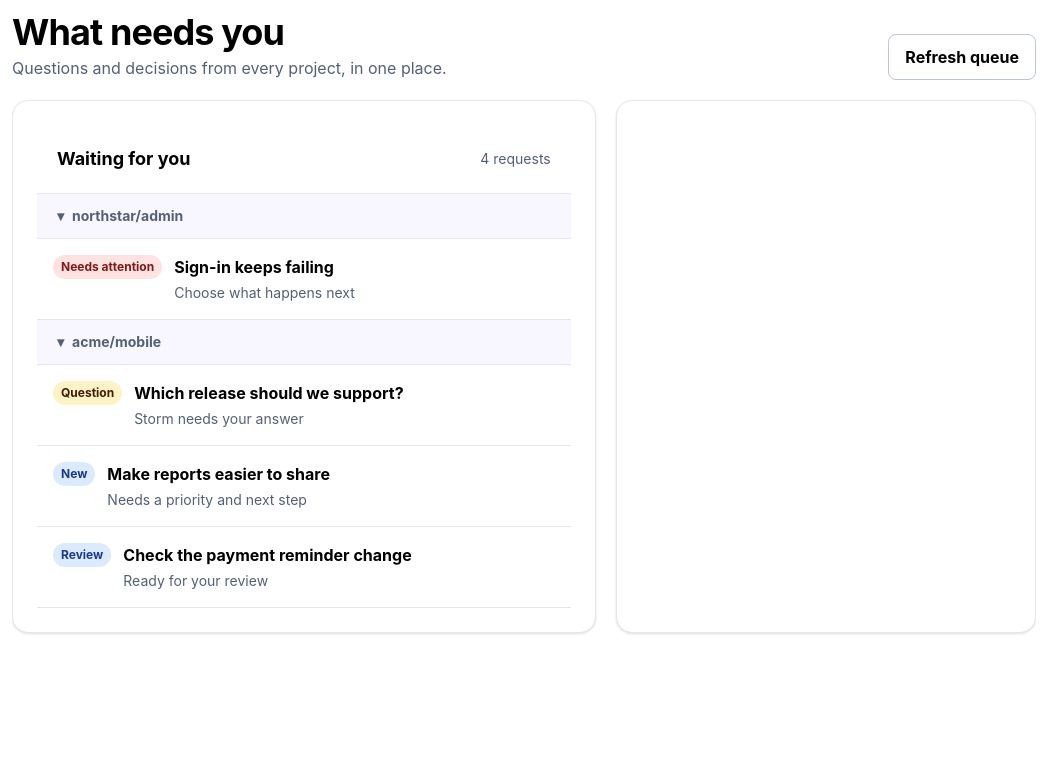
Test: keeps a failed answer in place with its error
Click the button "Which release".
click(304, 406)  # box [37, 365, 571, 446]
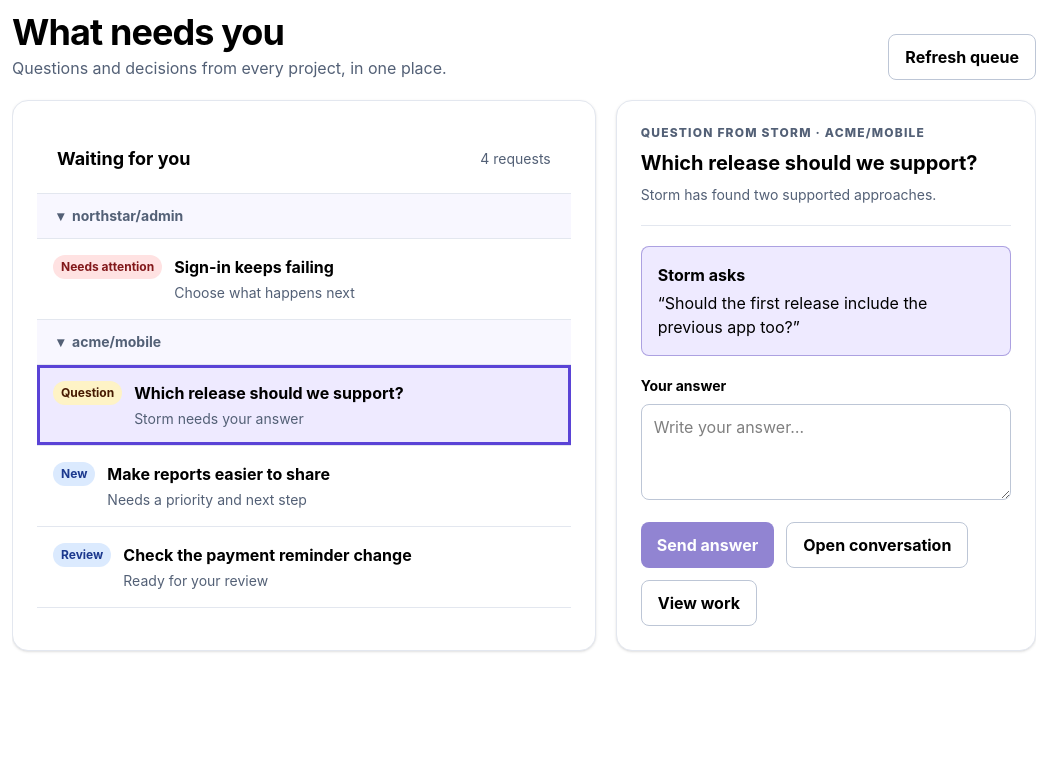
Type "Current only." into the text box labelled "Your answer".
click(826, 452); type("Current only.")  # box [641, 404, 1011, 500]
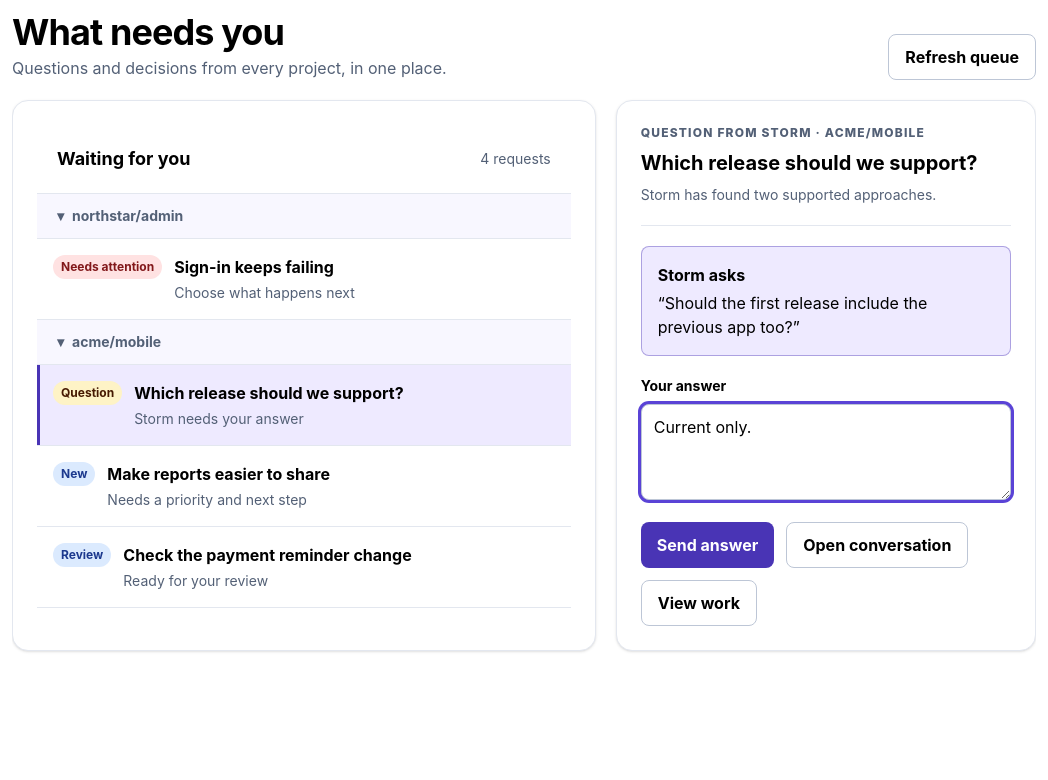
Click the button "Send answer".
click(707, 545)  # box [641, 522, 774, 568]
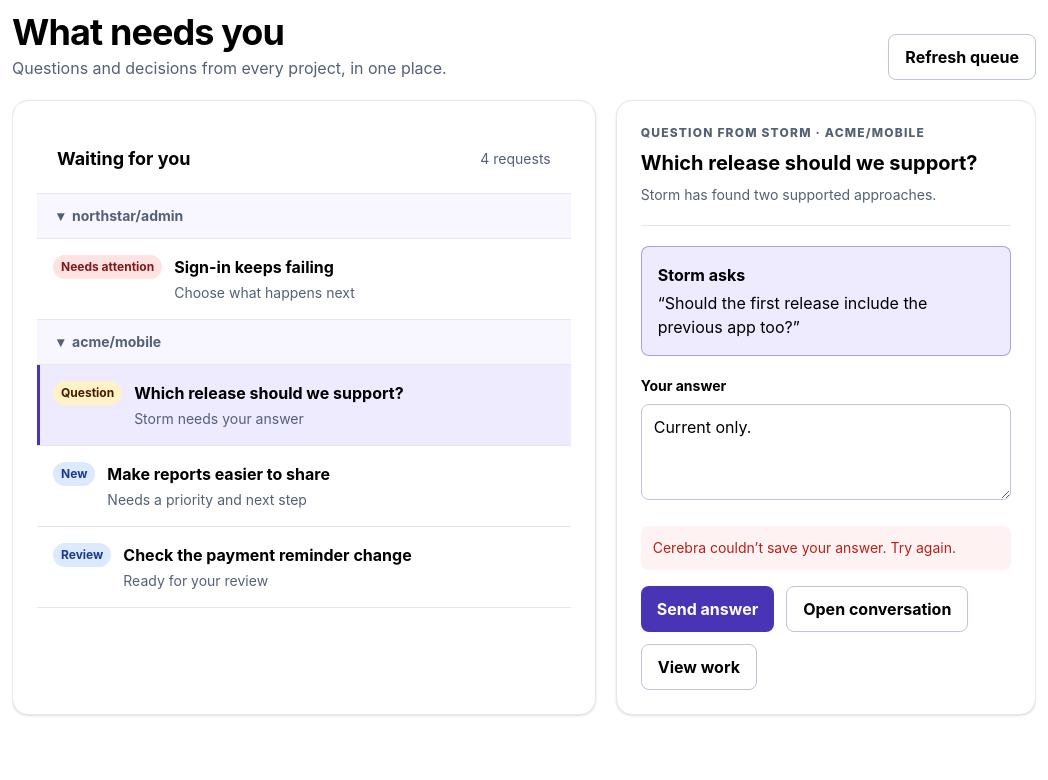
Expected: the text "Cerebra couldn’t save your answer. Try again." is shown, [641, 526, 1011, 570]
